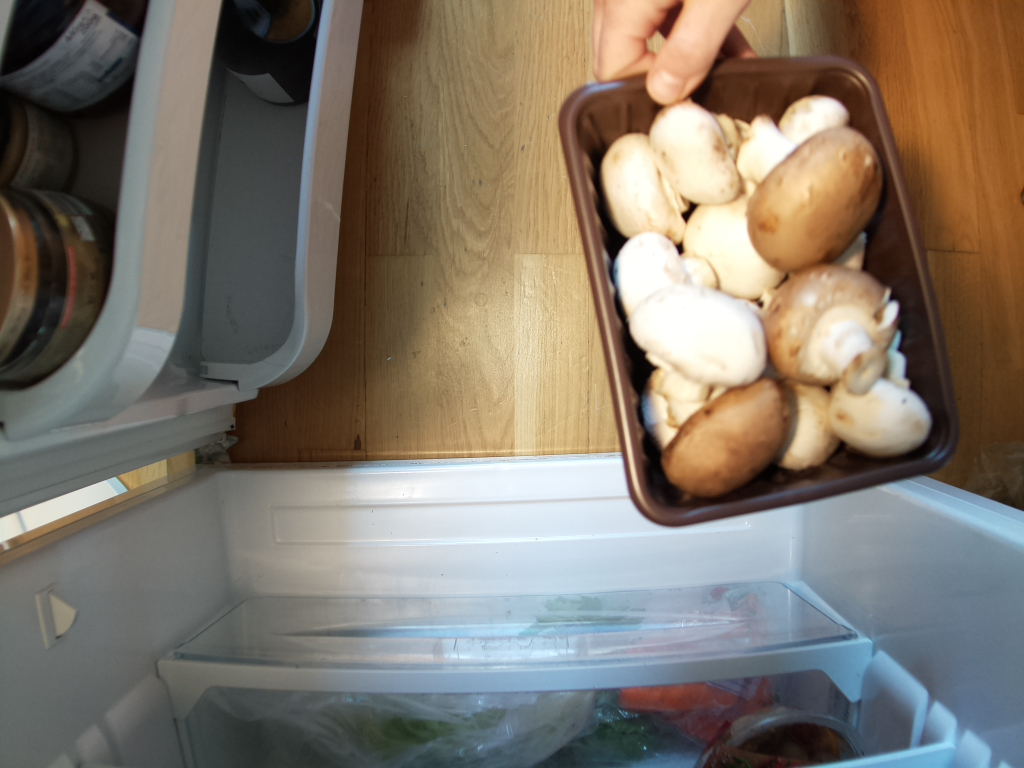mushrooms: (559, 60, 957, 528)
